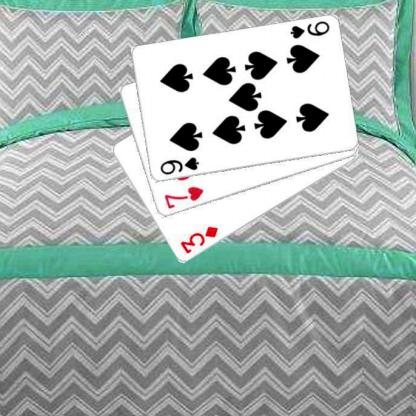3D: (178, 224, 220, 255)
7H: (161, 184, 205, 210)
9S: (157, 154, 200, 176), (288, 18, 330, 40)
